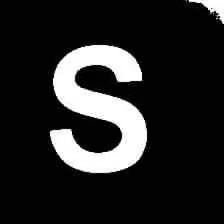LTR_S: (43, 35, 150, 177)
